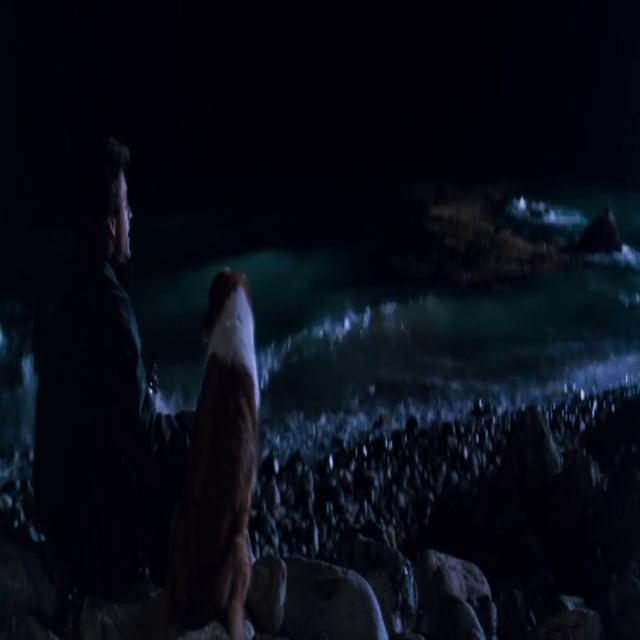People: (58, 131, 174, 559)
dog: (194, 235, 286, 640)
